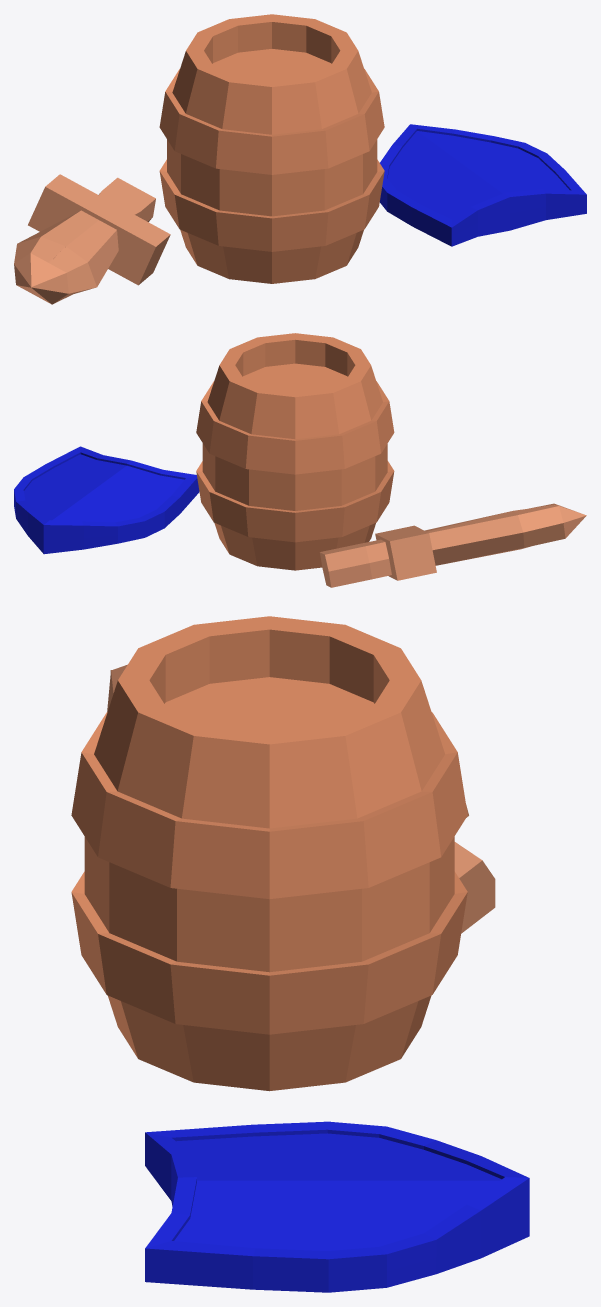
Rendered from sword.glb.
The picture shows the model from 3 angles, top to bottom: view 1: azimuth 30°, elevation 25°; view 2: azimuth 150°, elevation 25°; view 3: azimuth 270°, elevation 25°; orthographic projection. The views are drawn at different scales.
Visible parts, largest first — view 1: Cylinder, Circle, Cube; view 2: Cylinder, Circle, Cube; view 3: Cylinder, Circle, Cube.
Boxes of the visible parts, x1,y1,x2,y2 form: Cylinder: (159,14,384,283); Circle: (380,124,586,246); Cube: (14,174,170,304); Cylinder: (196,333,394,570); Circle: (14,446,199,554); Cube: (320,503,586,587); Cylinder: (71,616,467,1091); Circle: (145,1121,529,1292); Cube: (107,664,495,933).
Size of the model in its own units: 6.15 by 2.16 by 2.4.
